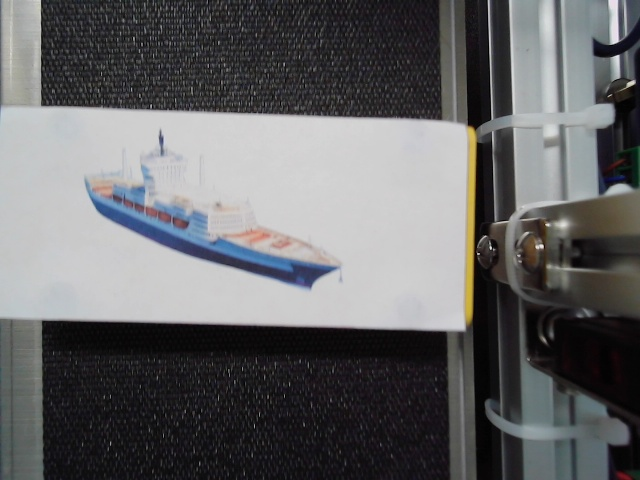ship: (82, 125, 346, 293)
